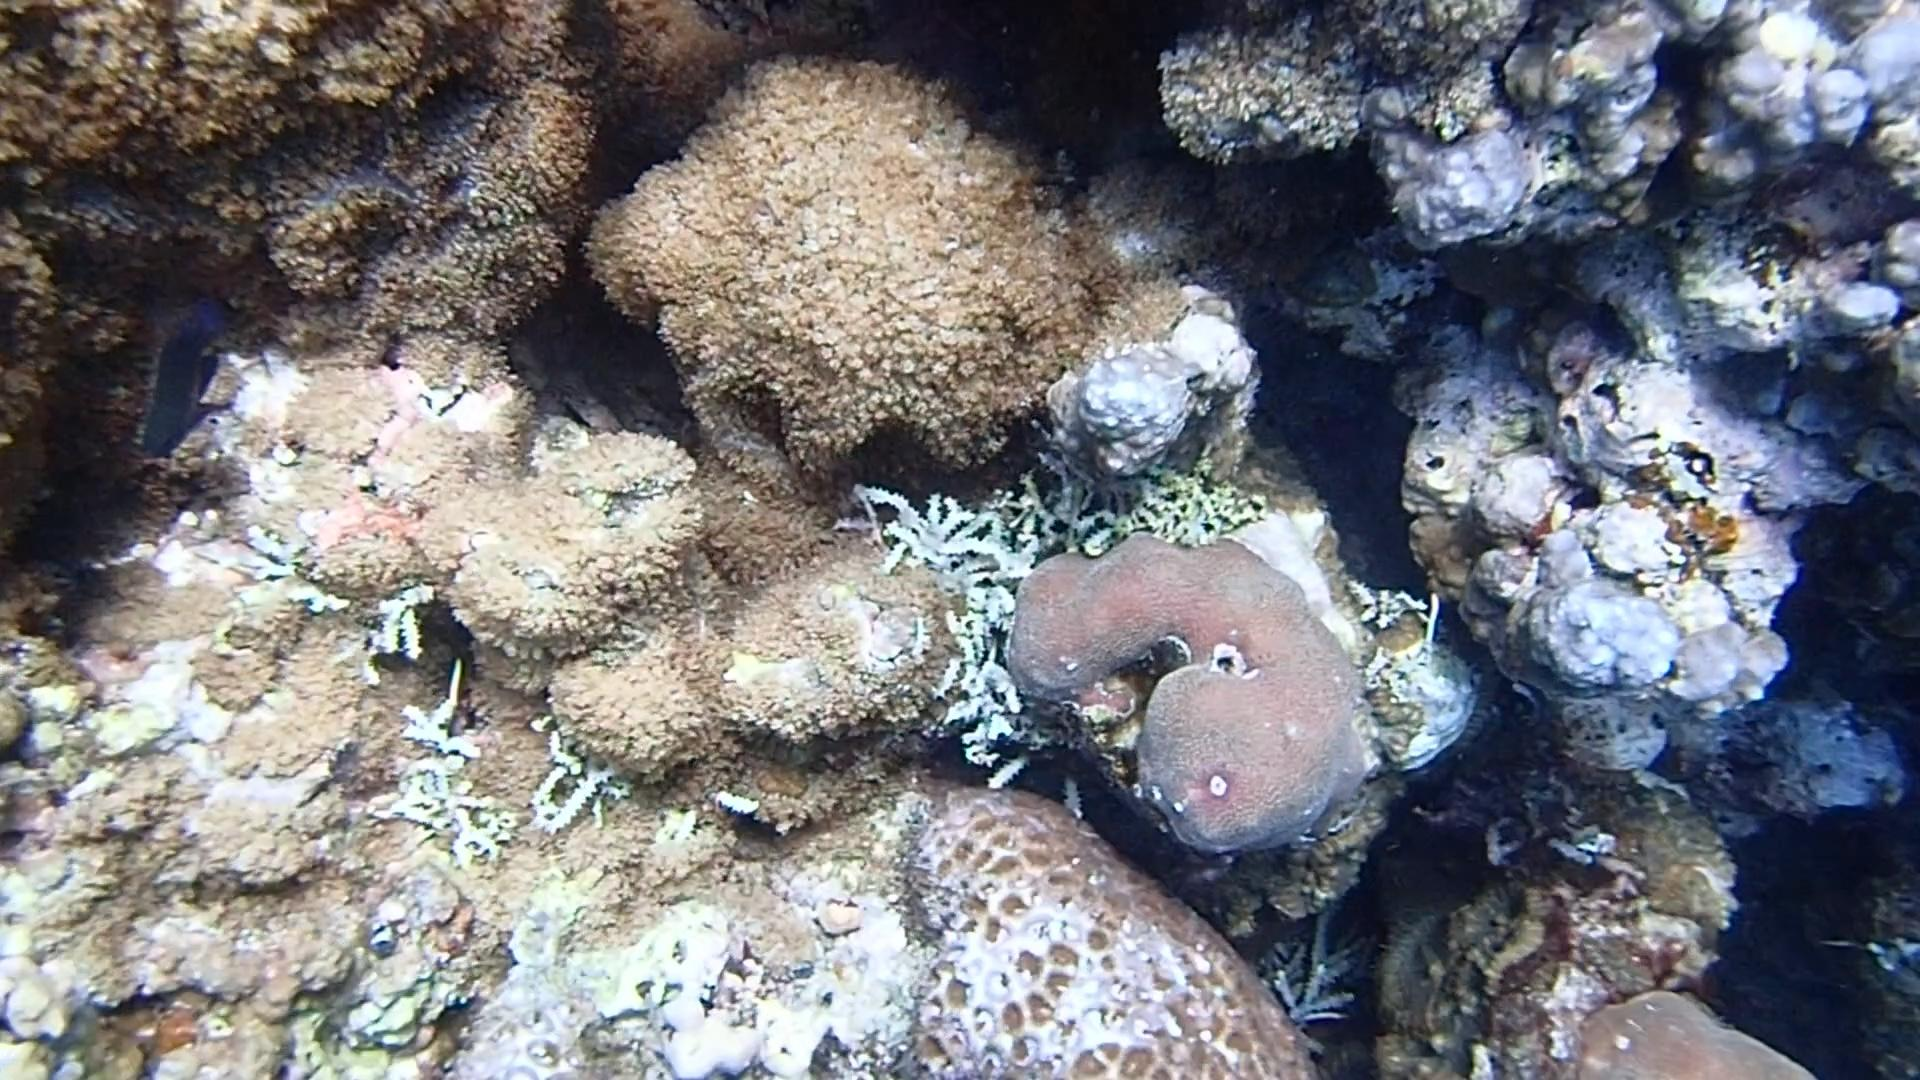Dark Fish: (128, 294, 237, 469)
